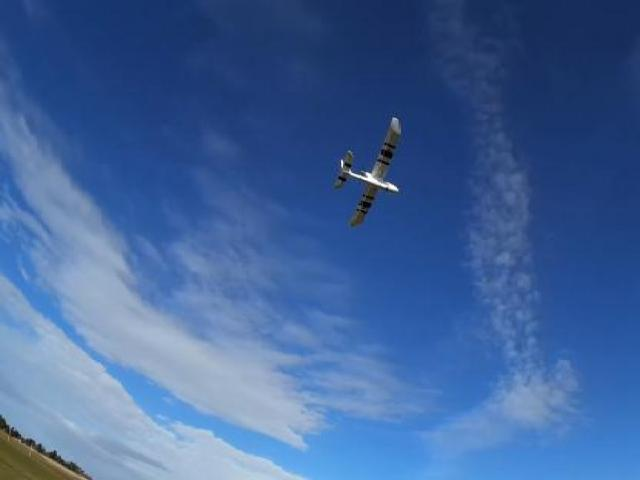uav: (328, 109, 417, 234)
